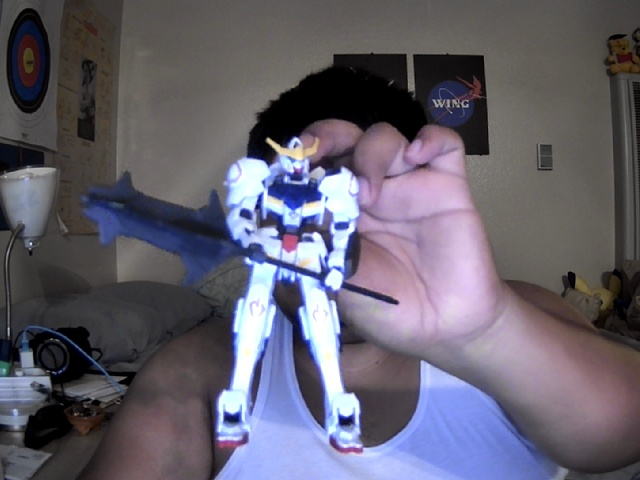Barbatos: (75, 134, 401, 455)
